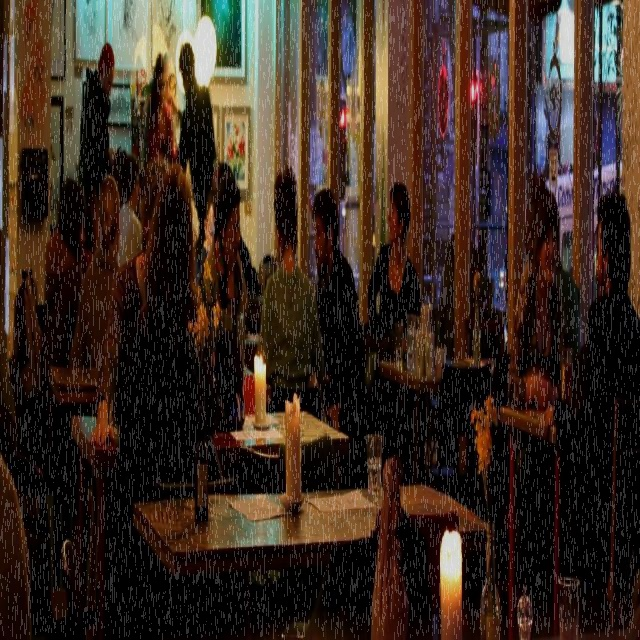pessoa: (540, 187, 640, 639), (108, 160, 217, 569), (506, 168, 567, 626), (88, 153, 172, 447), (256, 163, 326, 415), (310, 185, 368, 488), (366, 178, 422, 490), (68, 172, 121, 372), (433, 186, 486, 381), (174, 41, 218, 270), (200, 172, 250, 342), (200, 166, 250, 328), (44, 176, 85, 371), (78, 40, 116, 201), (143, 50, 179, 168), (115, 153, 143, 268)
